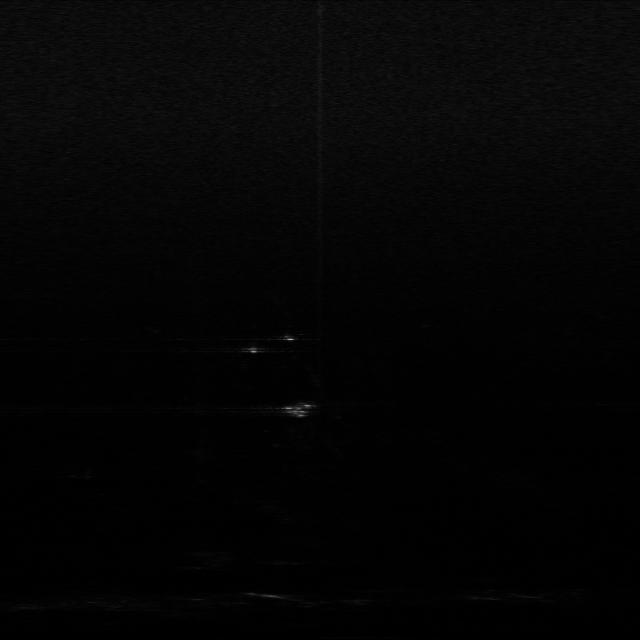rov: (282, 399, 317, 425)
